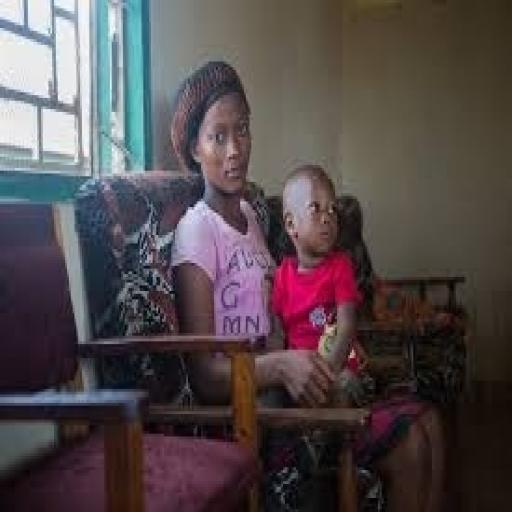sitting: (166, 56, 448, 506)
